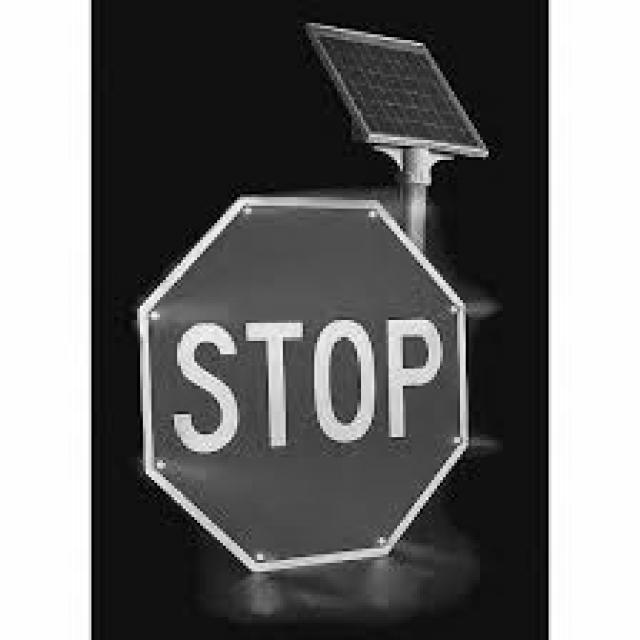stop sign: (137, 197, 474, 573)
